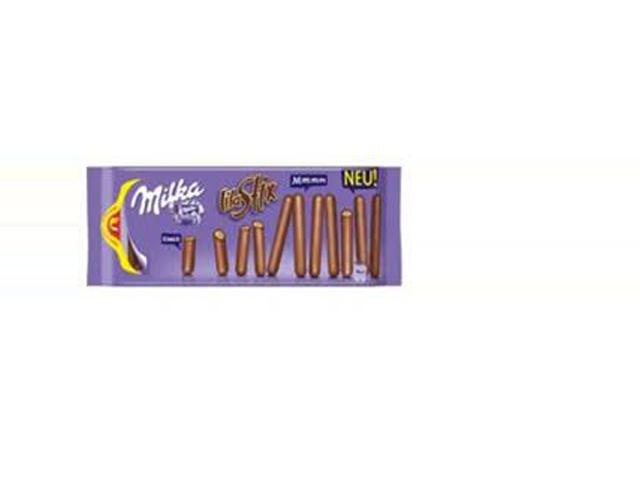chocolate: (82, 162, 407, 302)
